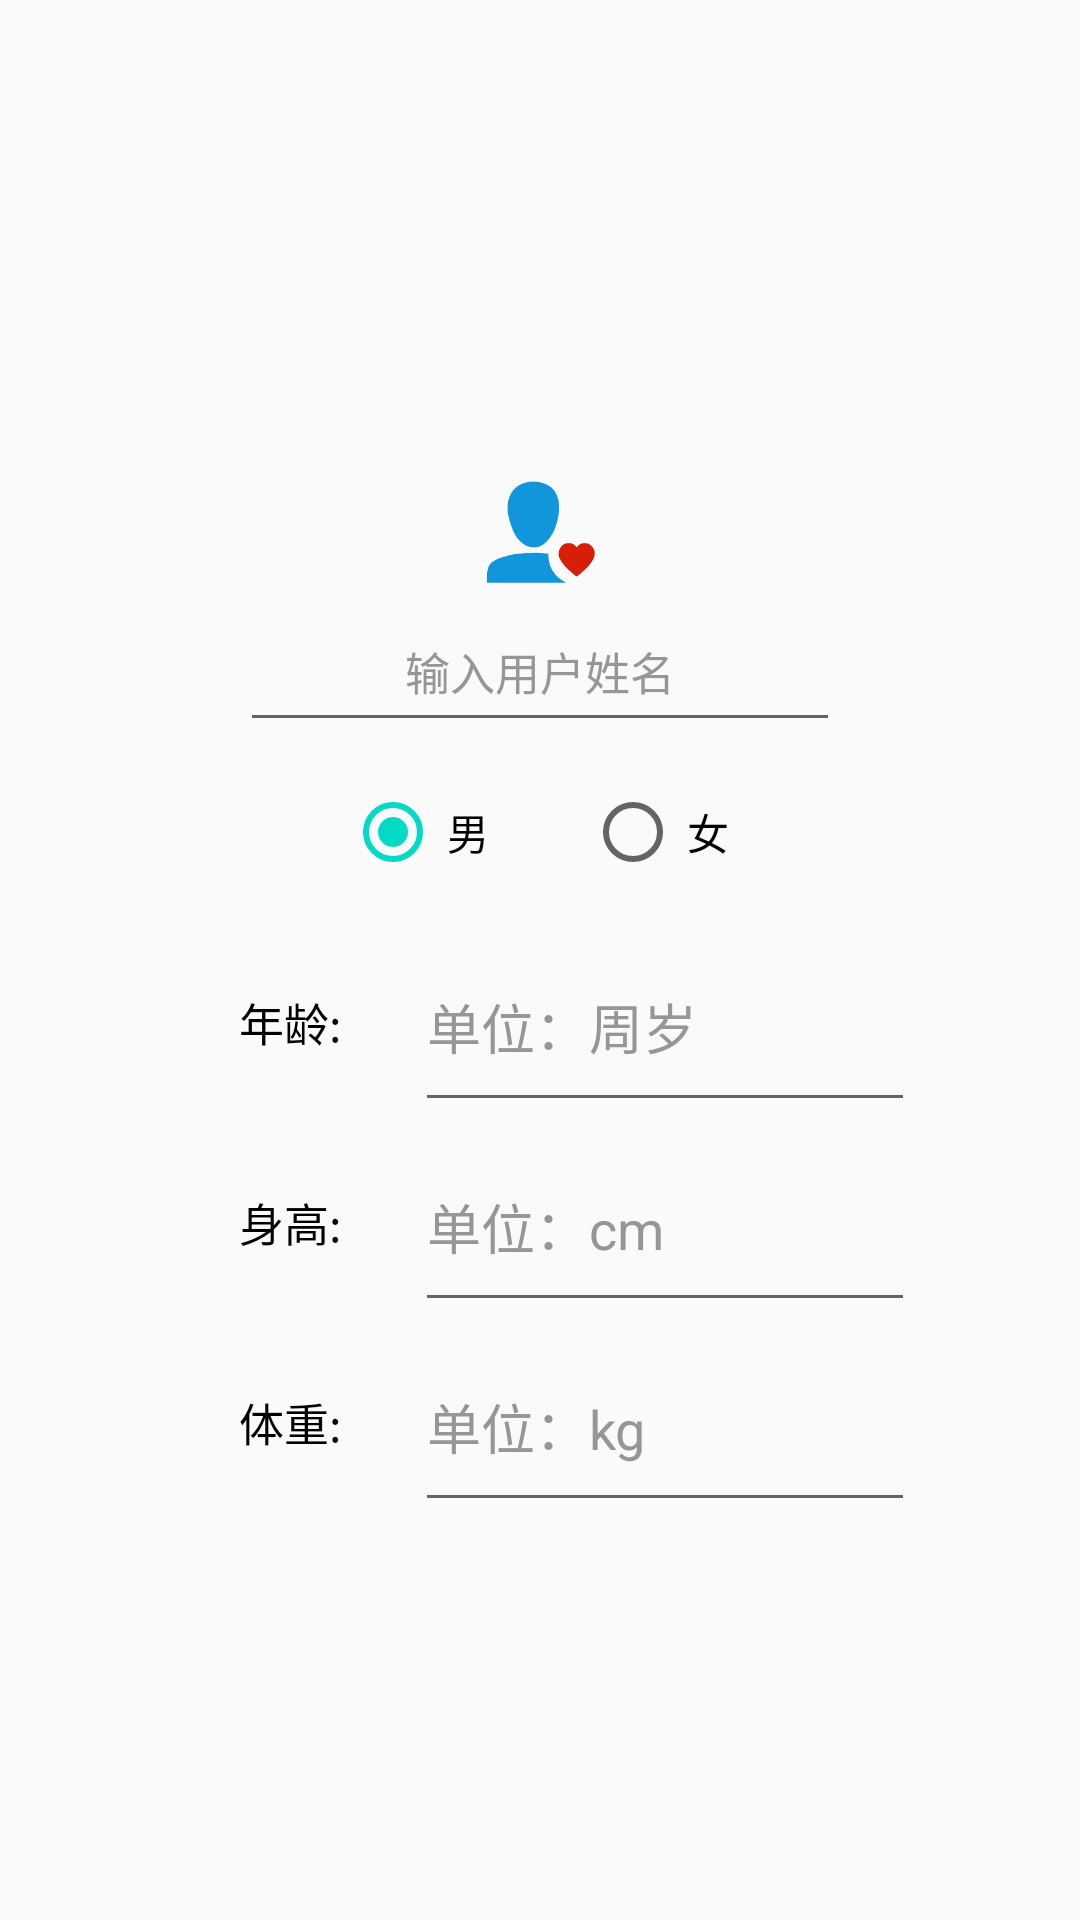

Screen size 1080 × 1920. Icon name, then its box in pixels as {"x1": x1, "y1": y1, "x2": x2, "y2": y2}:
user: {"x1": 487, "y1": 481, "x2": 595, "y2": 583}
